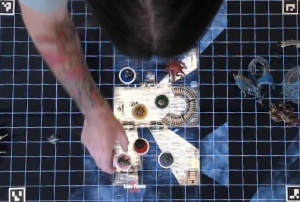blue: (117, 65, 136, 84)
green: (154, 92, 170, 108)
pink: (116, 152, 134, 172)
red: (131, 137, 150, 155)
violet: (156, 150, 174, 168)
yellow: (131, 101, 148, 117)
